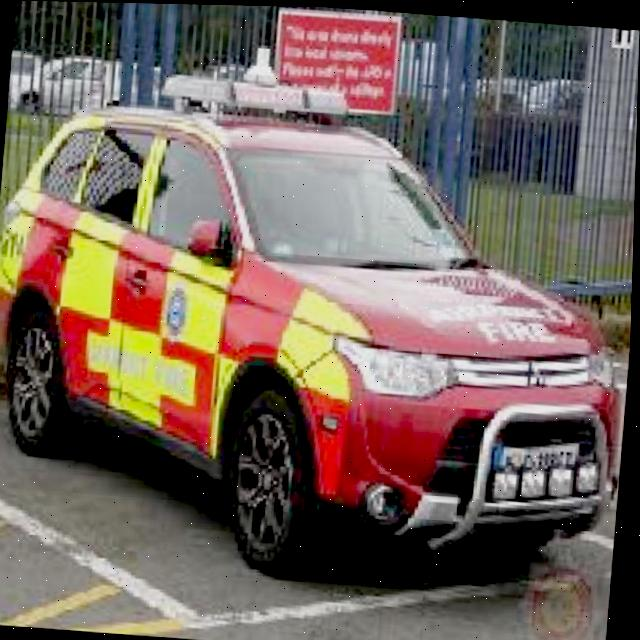emergency: (0, 23, 639, 596)
